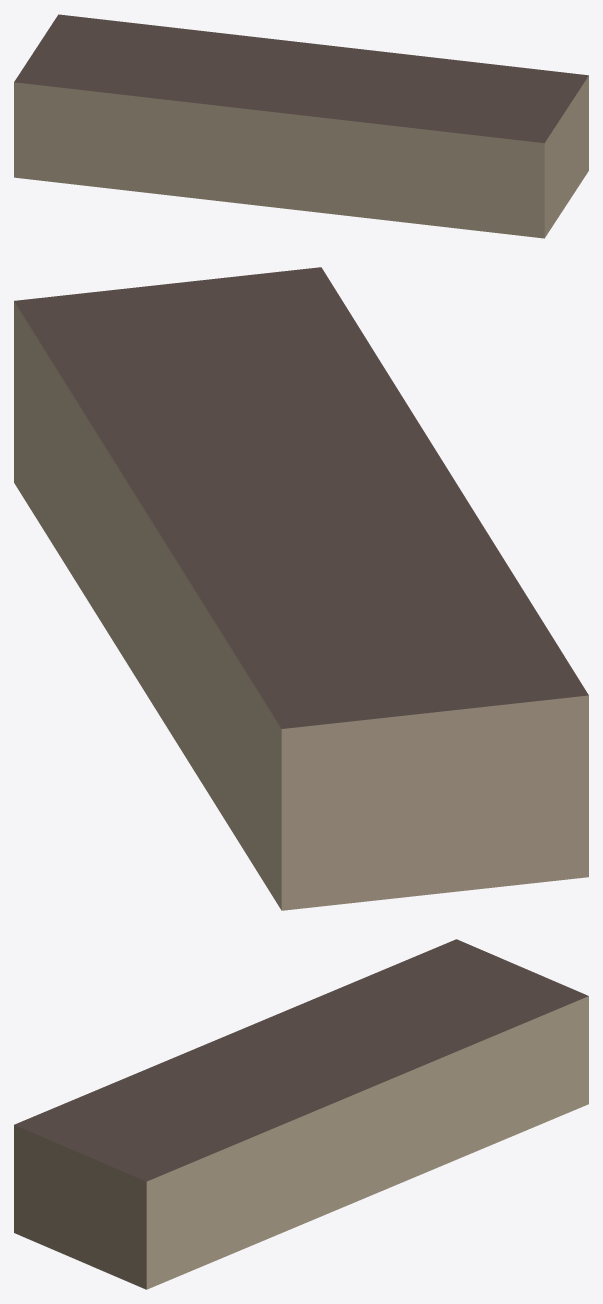
3 views of the same model, one above another, from view 1: azimuth 30°, elevation 25°; view 2: azimuth 150°, elevation 25°; view 3: azimuth 270°, elevation 25° (orthographic). The views are drawn at different scales.
Visible parts, largest first — view 1: HP-w441877185; view 2: HP-w441877185; view 3: HP-w441877185.
Part boxes in pixels (bbox=[...]): HP-w441877185: bbox=[14, 14, 588, 238]; HP-w441877185: bbox=[14, 267, 588, 910]; HP-w441877185: bbox=[14, 939, 588, 1289].
Bounding box in the file's own units: 43.3 × 9 × 43.37.
